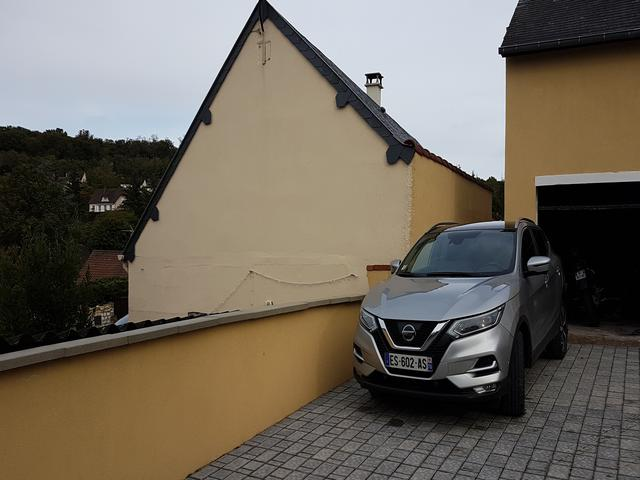Quashquai: (381, 346, 429, 386)
